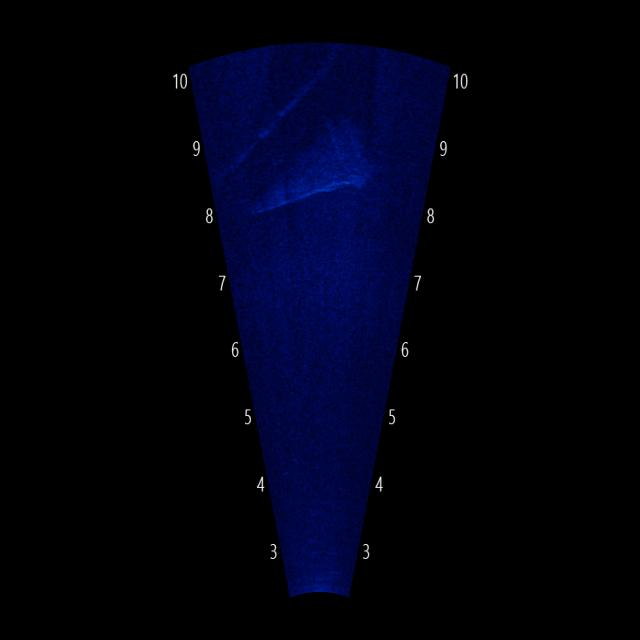triangle: (240, 108, 378, 222)
